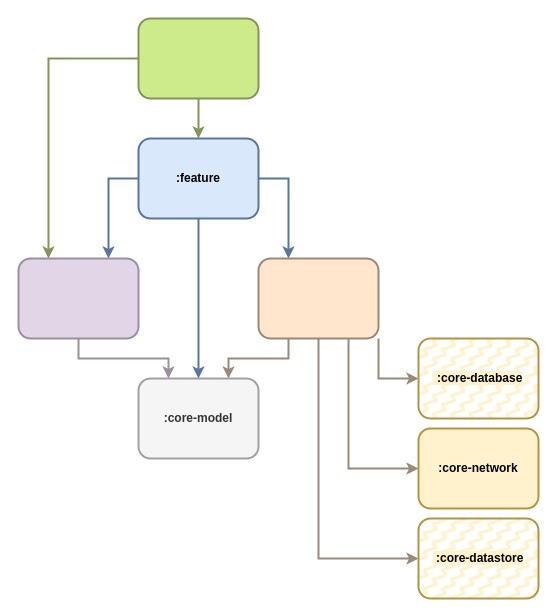
The diagram is 556 pixels wide and 616 high, and some of its shapes have lost their labels. The shapes that lost their labels are listed below. From the top down, each one's centre as x and y in pixels, then its label:
At point (198, 58): ":app".
At point (78, 298): ":core-ui".
At point (318, 298): ":core-data".
